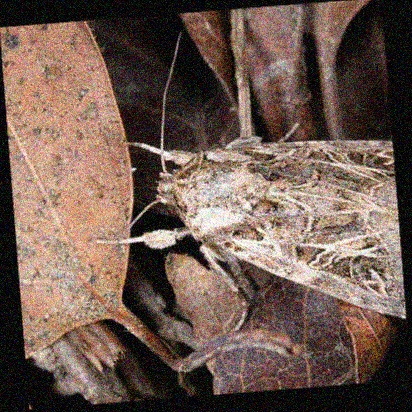Spodoptera litura: (57, 28, 395, 332)
